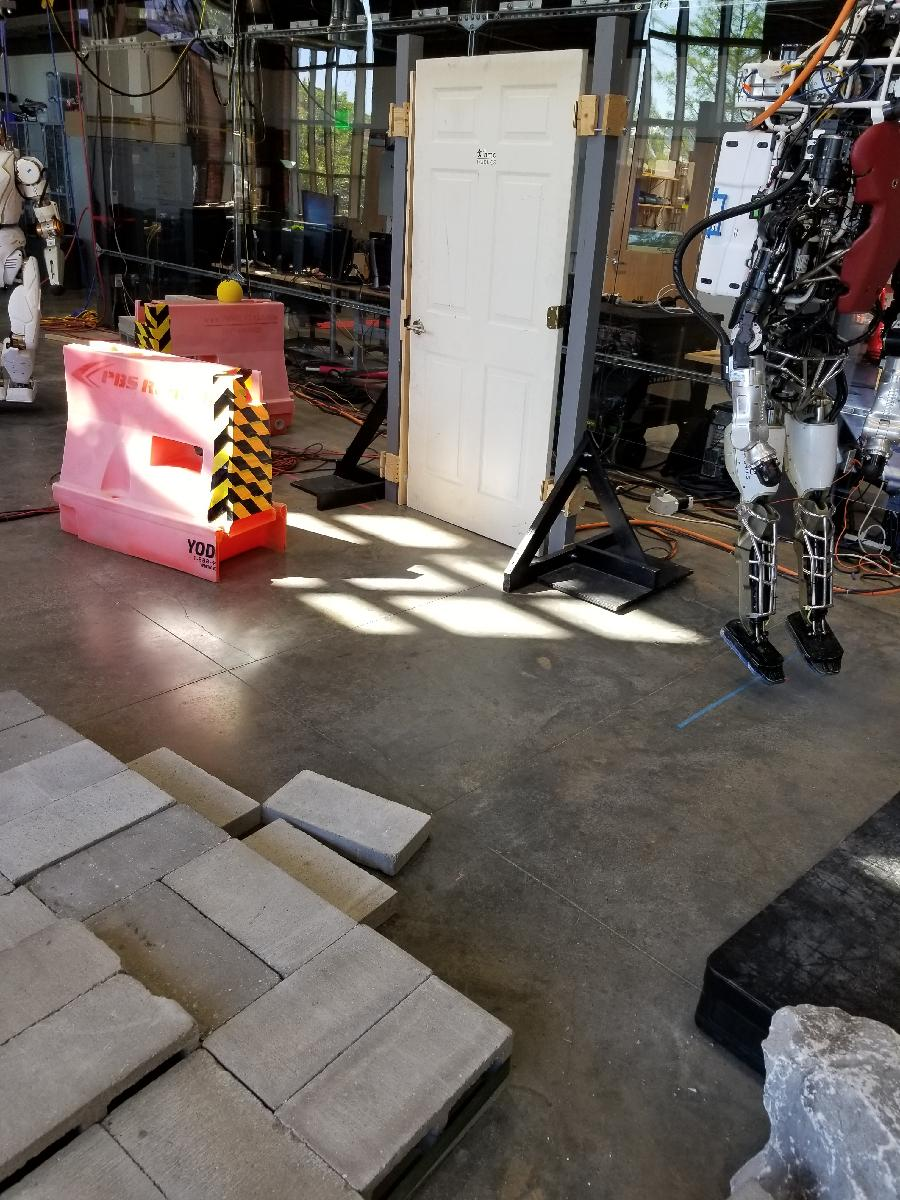door: (403, 45, 590, 552)
doorHandle: (406, 316, 432, 338)
